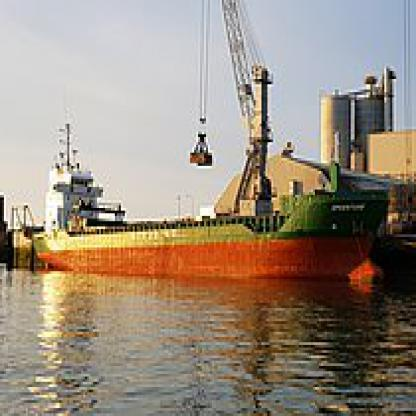Container Ship: (29, 121, 392, 281)
